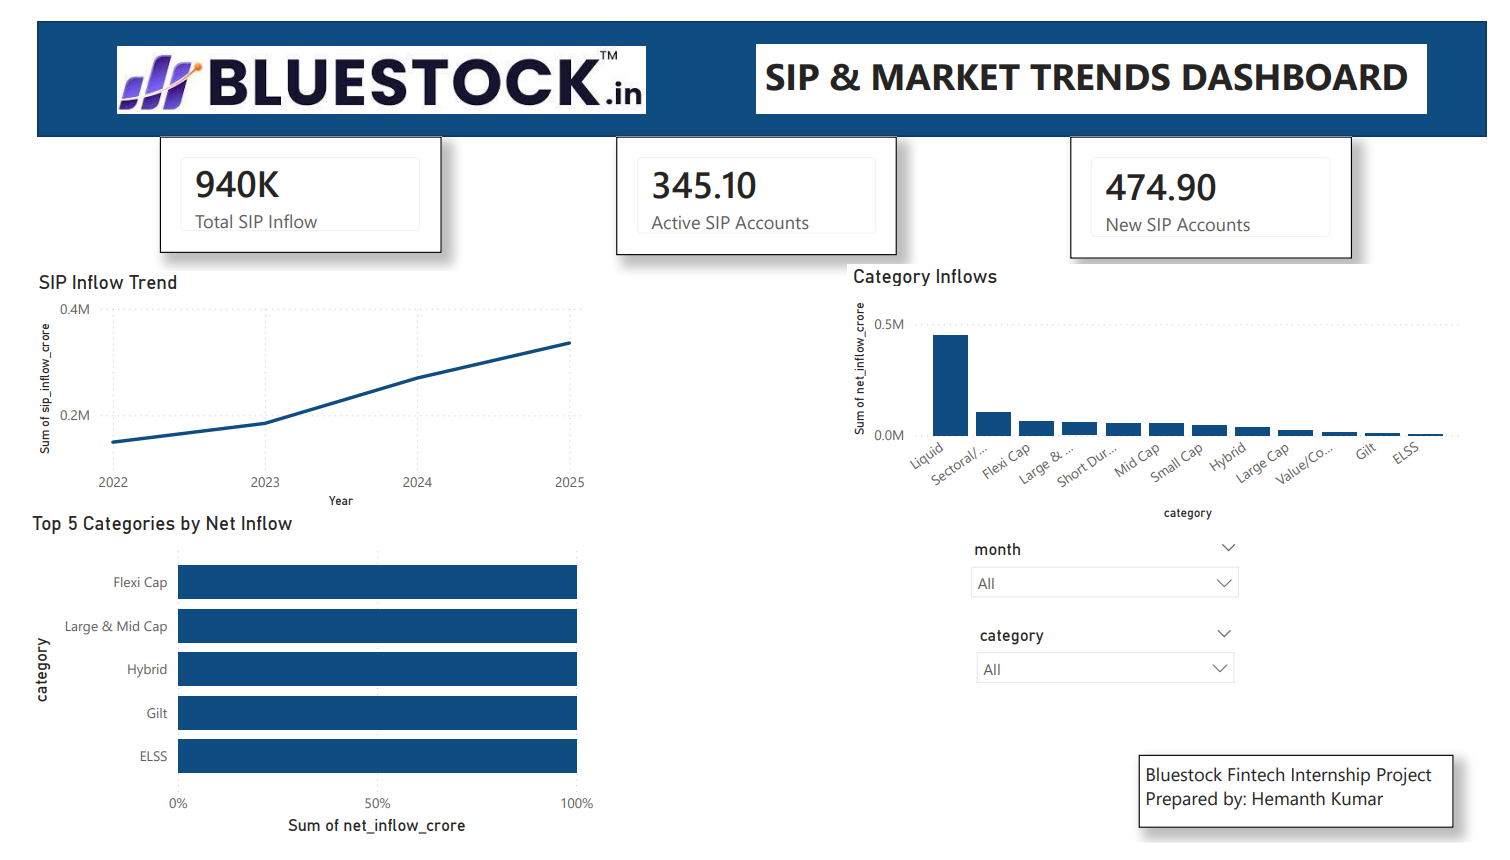

What the dashboard file says about the page in this screenshot:
{"tool":"powerbi","page":{"name":"SIP & Market Trends","canvas":[1280,720],"ordinal":3},"visuals":[{"type":"shape","box":[10.1,0,1270.2,101.4],"z":0},{"type":"textbox","box":[640.1,20.3,588,60.8],"z":1000},{"type":"cardVisual","fields":{"Data":["Sum(04_monthly_sip_inflows.sip_inflow_crore)"]},"box":[117.3,101.4,246.2,101.7],"z":2000},{"type":"cardVisual","fields":{"Data":["Sum(04_monthly_sip_inflows.new_sip_accounts_lakh)"]},"box":[915.3,101.4,246.2,106.3],"z":3000},{"type":"cardVisual","fields":{"Data":["Sum(04_monthly_sip_inflows.active_sip_accounts_crore)"]},"box":[517,101.4,246.2,104],"z":4000},{"type":"lineChart","title":"SIP Inflow Trend","fields":{"Category":["04_monthly_sip_inflows.month.Variation.Date Hierarchy.Year","04_monthly_sip_inflows.month.Variation.Date Hierarchy.Quarter","04_monthly_sip_inflows.month.Variation.Date Hierarchy.Month","04_monthly_sip_inflows.month.Variation.Date Hierarchy.Day"],"Y":["Sum(04_monthly_sip_inflows.sip_inflow_crore)"]},"box":[5.8,218.7,488.7,212.9],"z":5000},{"type":"clusteredColumnChart","title":"Category Inflows ","fields":{"Category":["05_category_inflows.category"],"Y":["Sum(05_category_inflows.net_inflow_crore)"]},"box":[720.1,213.5,541.7,228.8],"z":6000},{"type":"hundredPercentStackedBarChart","title":"Top 5 Categories by Net Inflow  ","fields":{"Category":["05_category_inflows.category"],"Y":["Sum(05_category_inflows.net_inflow_crore)"]},"box":[0,430.1,502.3,288.2],"z":7000},{"type":"slicer","fields":{"Values":["05_category_inflows.month"]},"box":[818.3,449.8,254.9,59.4],"z":8000},{"type":"slicer","fields":{"Values":["05_category_inflows.category"]},"box":[822.6,525.4,246.2,76.8],"z":9000},{"type":"textbox","box":[975.3,642.5,275.9,64.1],"z":10000}]}

Visuals, with their boxes in screenshot pixels (x1, y1, x2, y2), scaled from the page's 1280x720 canvas onto the 1510x860 screenshot:
shape: {"x1": 12, "y1": 0, "x2": 1509, "y2": 121}
textbox: {"x1": 755, "y1": 24, "x2": 1449, "y2": 97}
cardVisual - Sum(04_monthly_sip_inflows.sip_inflow_crore): {"x1": 138, "y1": 121, "x2": 429, "y2": 243}
cardVisual - Sum(04_monthly_sip_inflows.new_sip_accounts_lakh): {"x1": 1080, "y1": 121, "x2": 1370, "y2": 248}
cardVisual - Sum(04_monthly_sip_inflows.active_sip_accounts_crore): {"x1": 610, "y1": 121, "x2": 900, "y2": 245}
"SIP Inflow Trend" lineChart: {"x1": 7, "y1": 261, "x2": 583, "y2": 516}
"Category Inflows " clusteredColumnChart: {"x1": 849, "y1": 255, "x2": 1489, "y2": 528}
"Top 5 Categories by Net Inflow  " hundredPercentStackedBarChart: {"x1": 0, "y1": 514, "x2": 593, "y2": 858}
slicer - 05_category_inflows.month: {"x1": 965, "y1": 537, "x2": 1266, "y2": 608}
slicer - 05_category_inflows.category: {"x1": 970, "y1": 628, "x2": 1261, "y2": 719}
textbox: {"x1": 1151, "y1": 767, "x2": 1476, "y2": 844}
